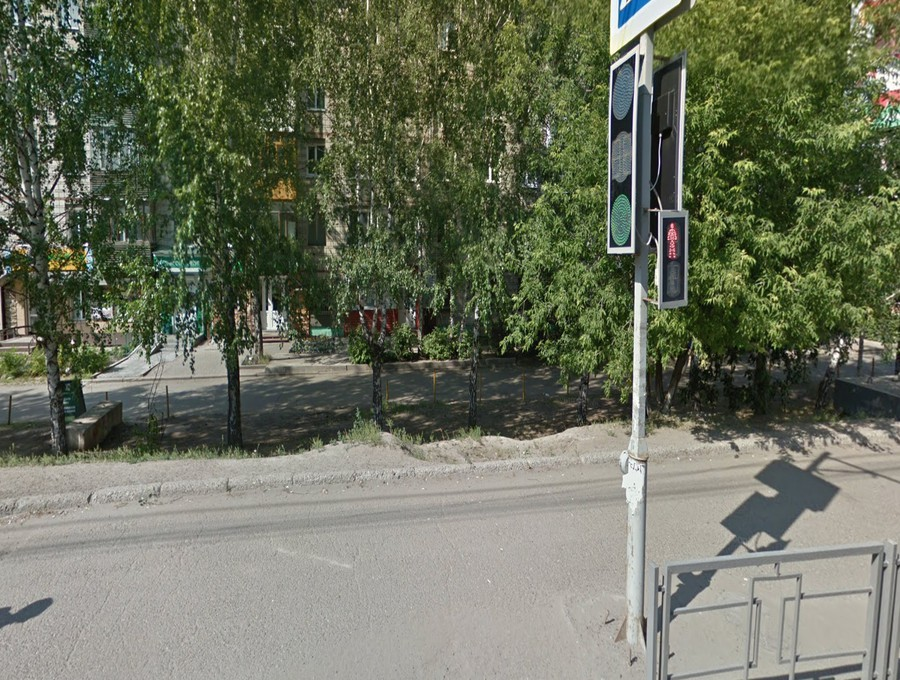Traffic Light-red: (655, 209, 690, 313)
